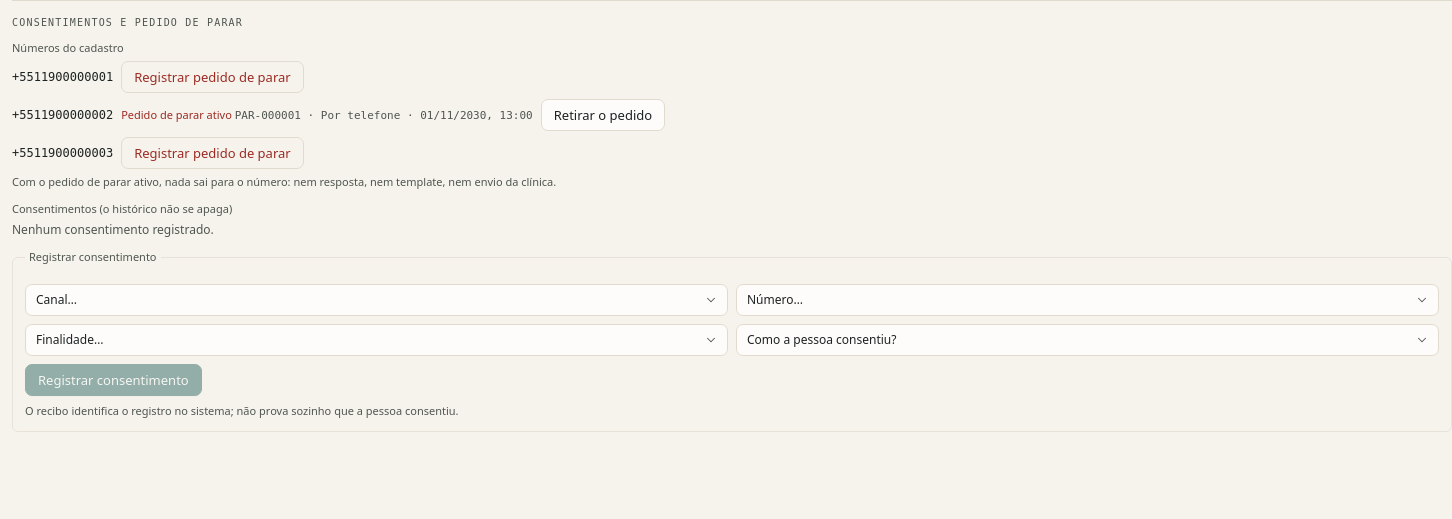
Test: a ficha do contato: consentimentos e pedido de parar › o número escolhido que passa a ter pedido de parar deixa de valer para a concessão
Select "WhatsApp da clínica" in the dropdown named "Canal do consentimento" at (376, 300), box [25, 284, 728, 316]
Select "+5511900000001" in the dropdown named "Número do consentimento" at (1088, 300), box [736, 284, 1439, 316]
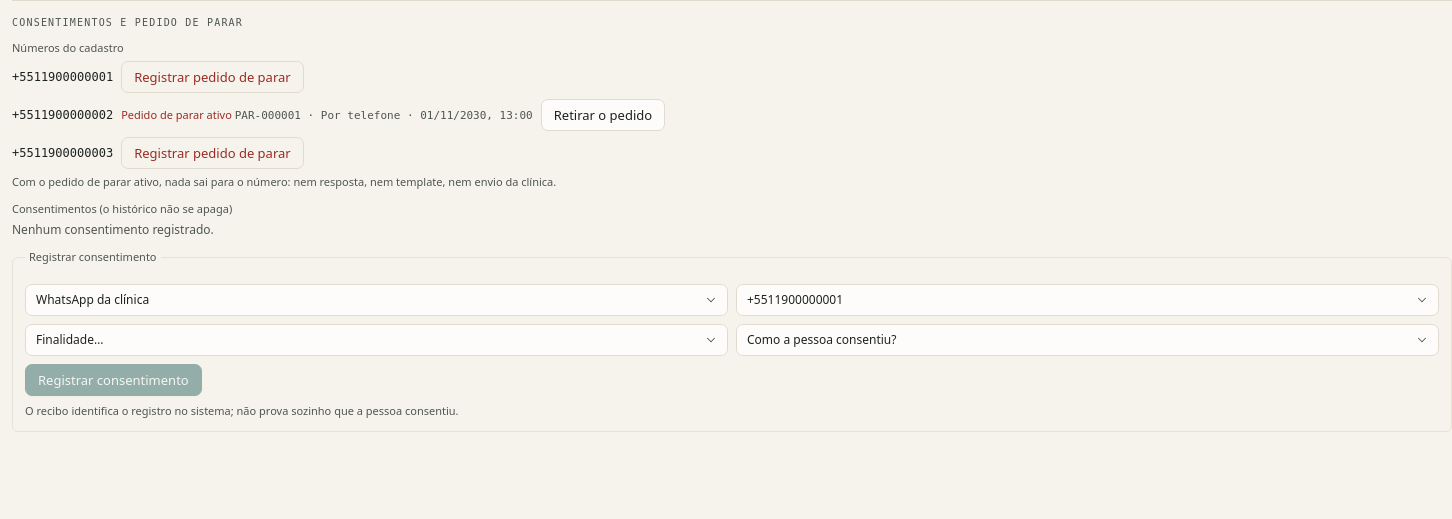
Select "clinics_confirmacao v2" in the dropdown named "Finalidade do consentimento" at (376, 340), box [25, 324, 728, 356]
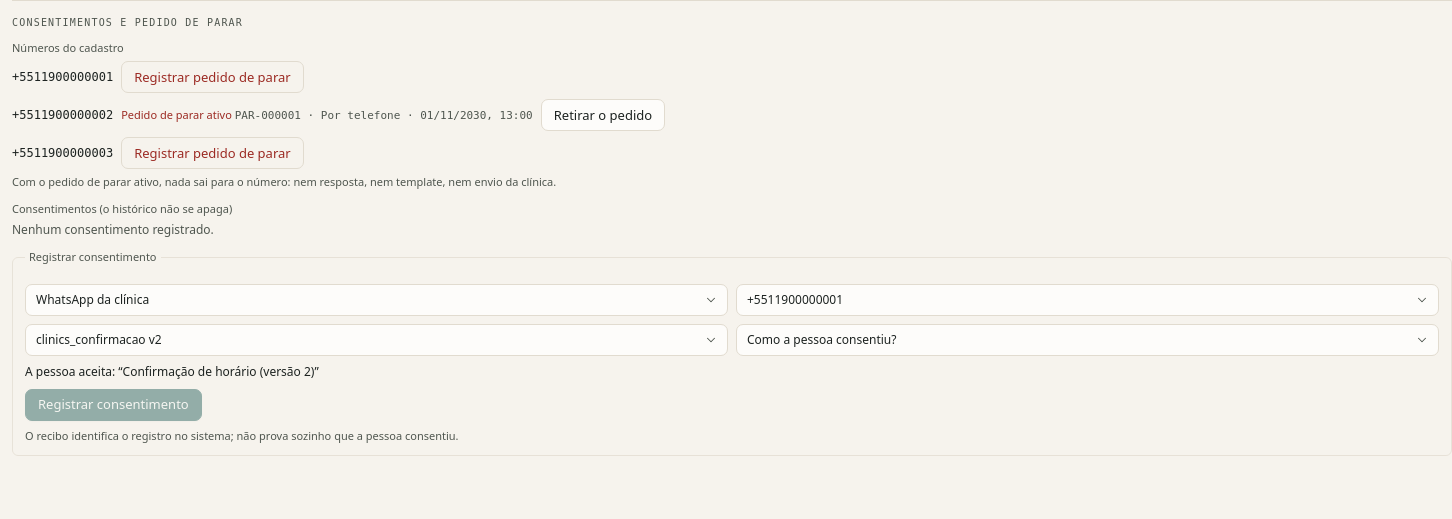
Select "Presencial" in the dropdown named "Origem do consentimento" at (1088, 340), box [736, 324, 1439, 356]
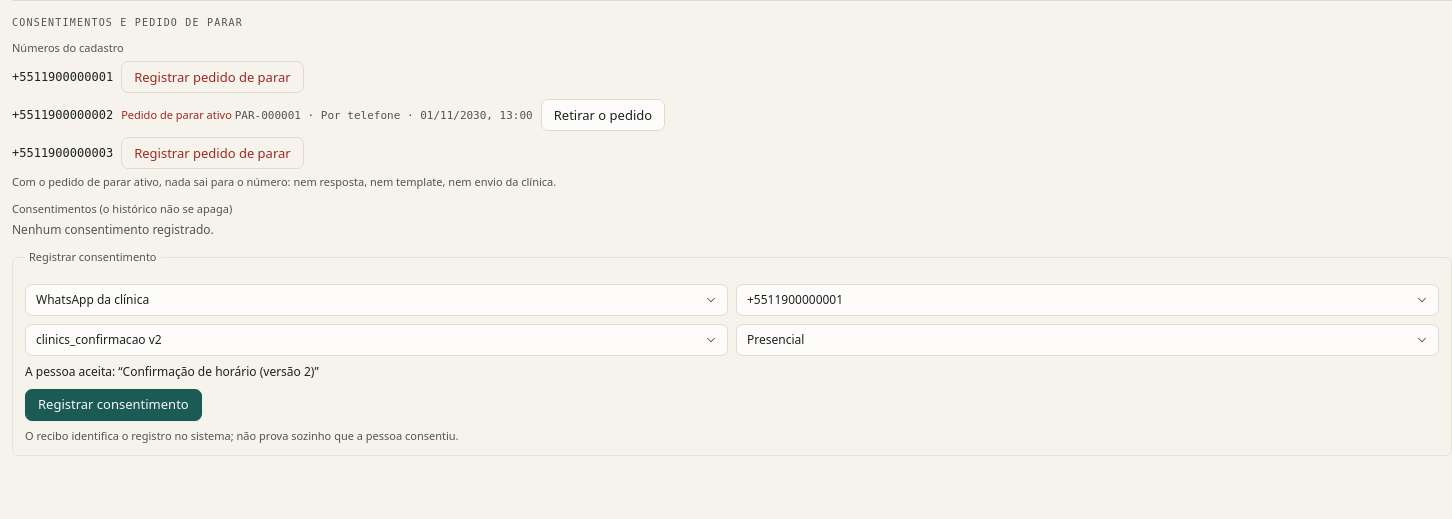
Now the button "Registrar consentimento" is enabled, box [25, 389, 202, 421]
Click the button "Registrar pedido de parar" next to "+5511900000001" at (212, 77), box [121, 61, 304, 93]
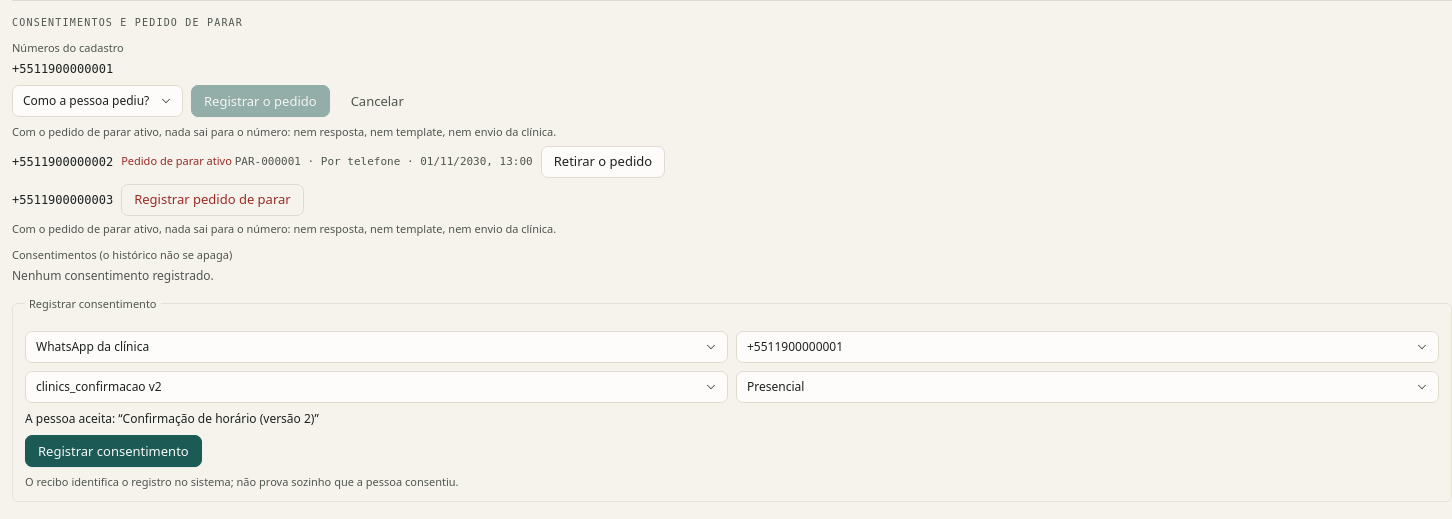
Select "Por telefone" in the dropdown named "Como a pessoa pediu: Registrar pedido de parar (+55119000000" at (98, 102), box [12, 86, 183, 118]
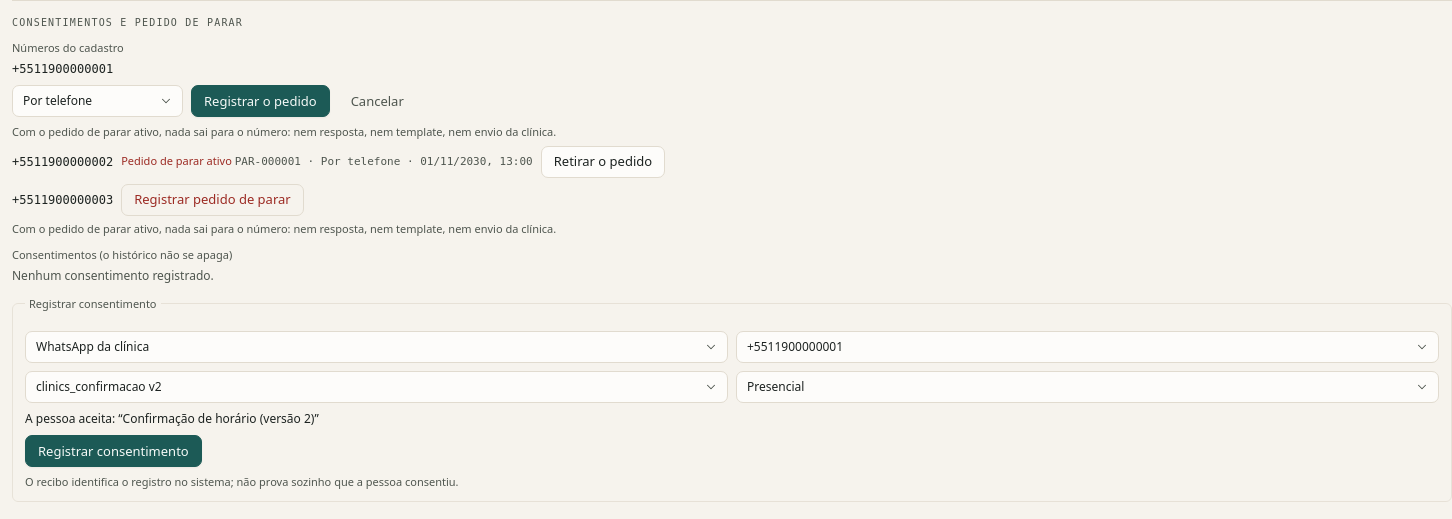
Click the button "Registrar o pedido" at (260, 102), box [191, 86, 330, 118]
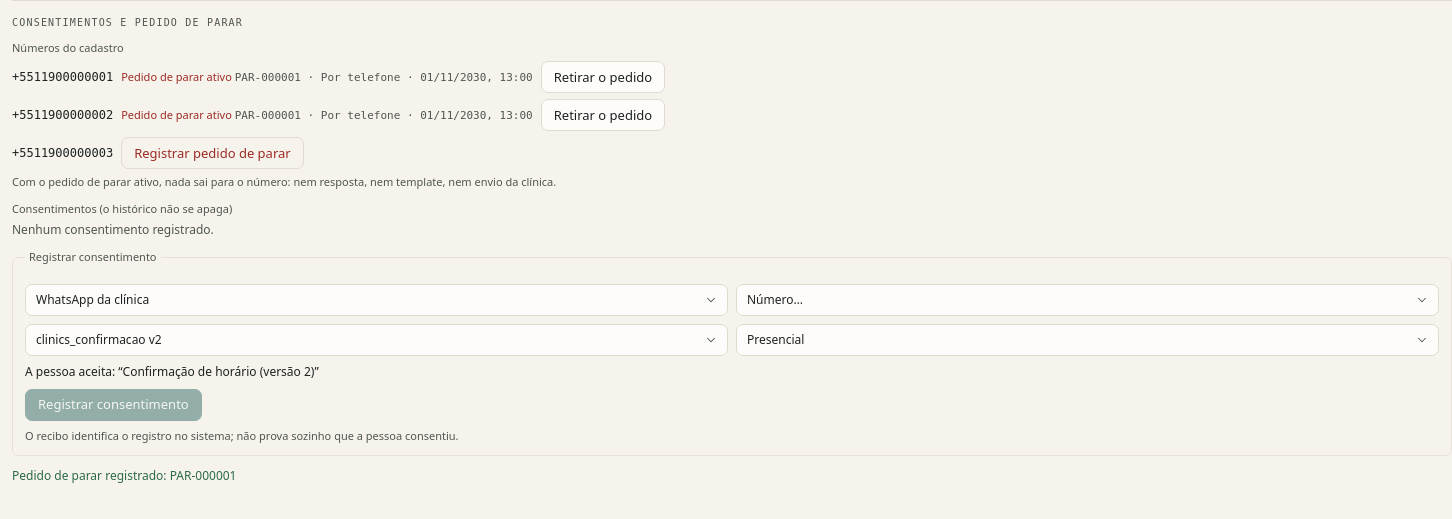
Now the button "Registrar consentimento" is disabled, box [25, 389, 202, 421]
